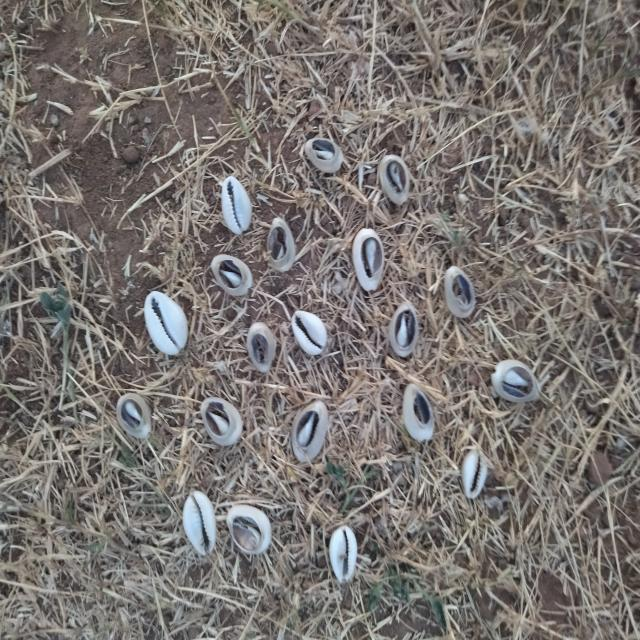facedown: (485, 352, 546, 410), (287, 396, 336, 466), (196, 392, 251, 452), (348, 225, 391, 299), (221, 502, 274, 562), (397, 377, 440, 449), (438, 261, 484, 324), (386, 295, 425, 365), (208, 248, 258, 302), (262, 212, 302, 278), (376, 151, 418, 212), (112, 388, 157, 442), (241, 318, 282, 377), (301, 134, 346, 178)
faceup: (139, 289, 197, 362), (178, 483, 222, 564), (217, 174, 259, 239), (458, 435, 494, 509), (326, 520, 364, 590), (287, 305, 332, 362)
